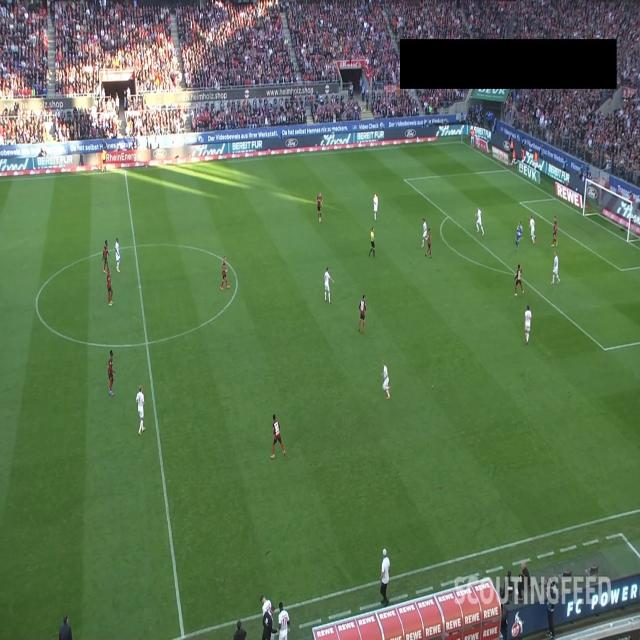ball: (517, 230, 521, 237)
